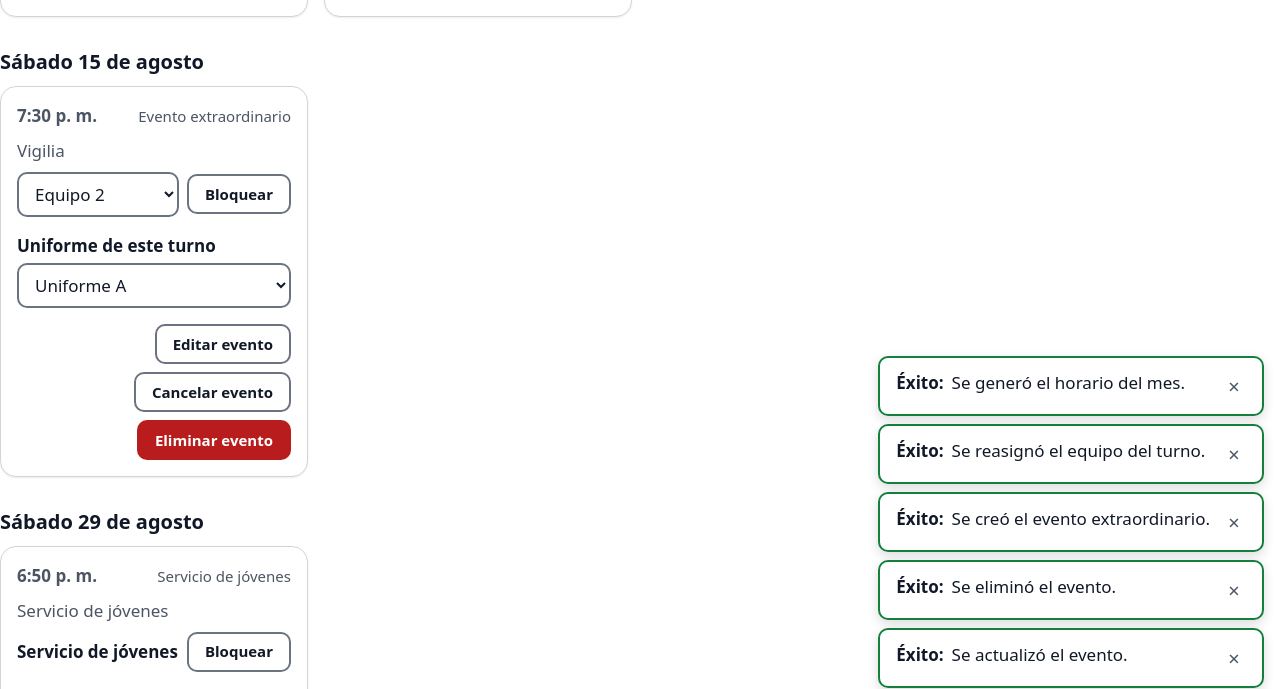
Test case: EventsManager › muestra un mensaje claro cuando editar un evento choca con EQUIPOS_BLOQUEADOS_EXCEDEN_CUPO
(page scrolled)
Check: the text "Vigilia" is shown, box [17, 139, 65, 162]
Step 1. Click the button "Editar evento" → (223, 344), box [155, 324, 291, 364]
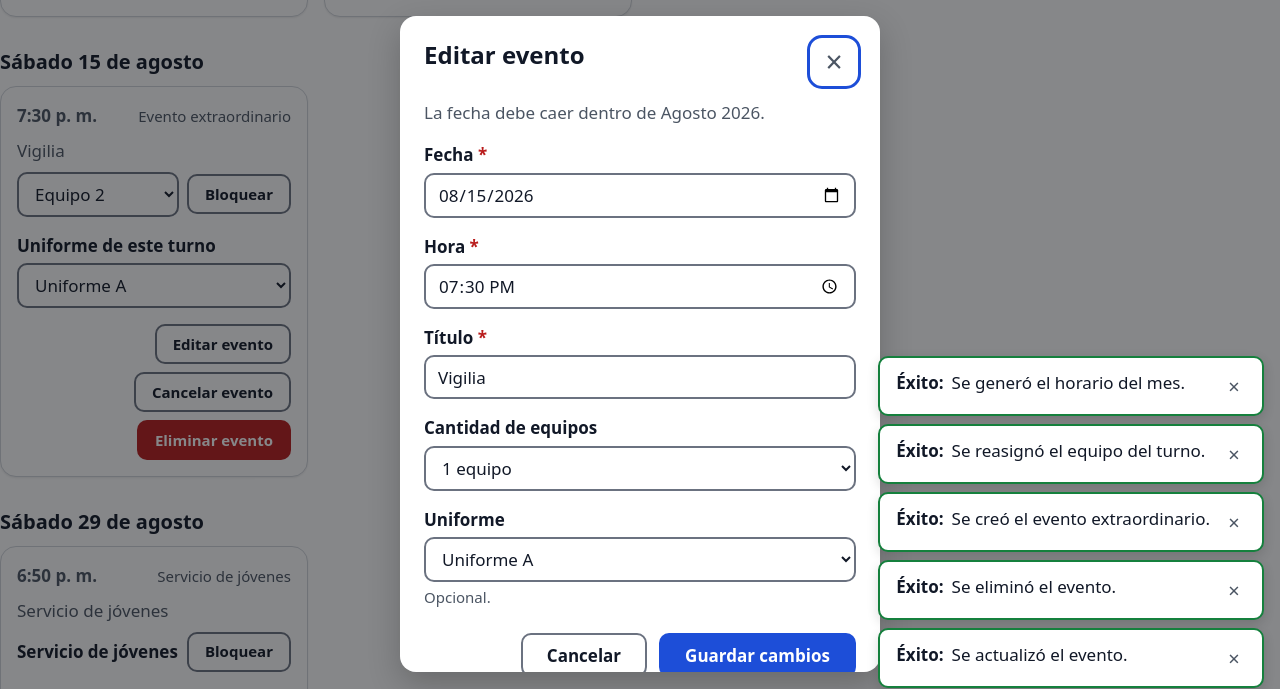
Step 2. Click the button "Guardar cambios" → (758, 655), box [659, 633, 856, 677]
(page scrolled)
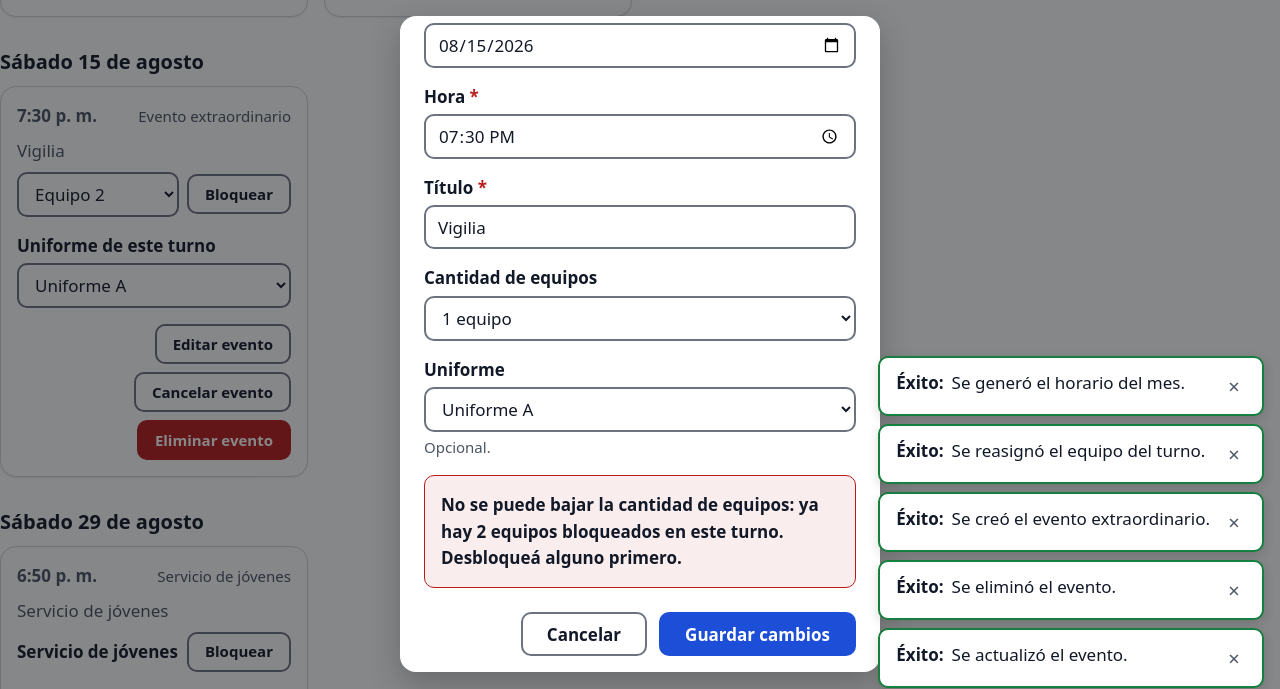
Check: the text "No se puede bajar la cantidad de equipos: ya hay 2 equipos bloqueados en este turno. Desbloqueá alguno primero." is shown, box [441, 493, 819, 569]
